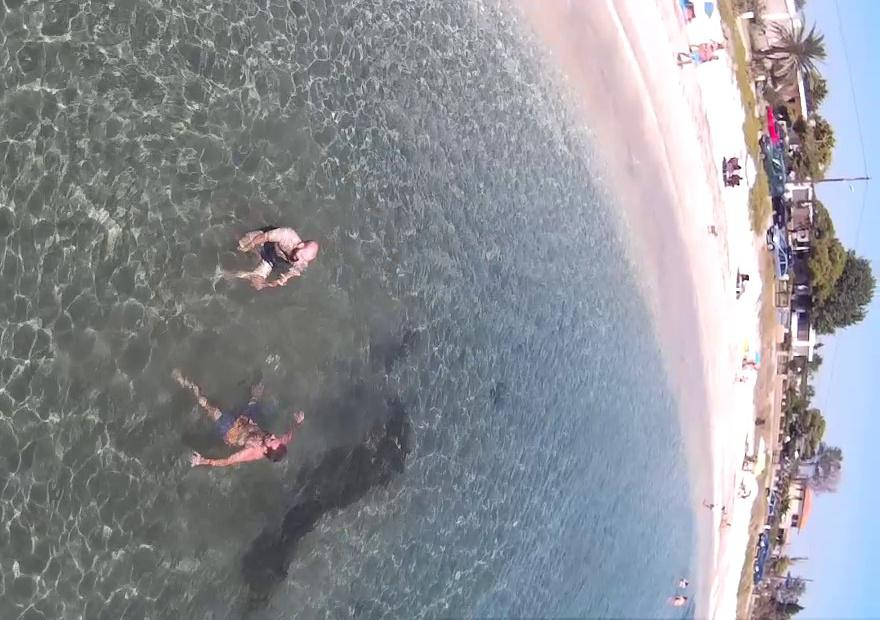human: (155, 355, 306, 484), (221, 210, 319, 318)
